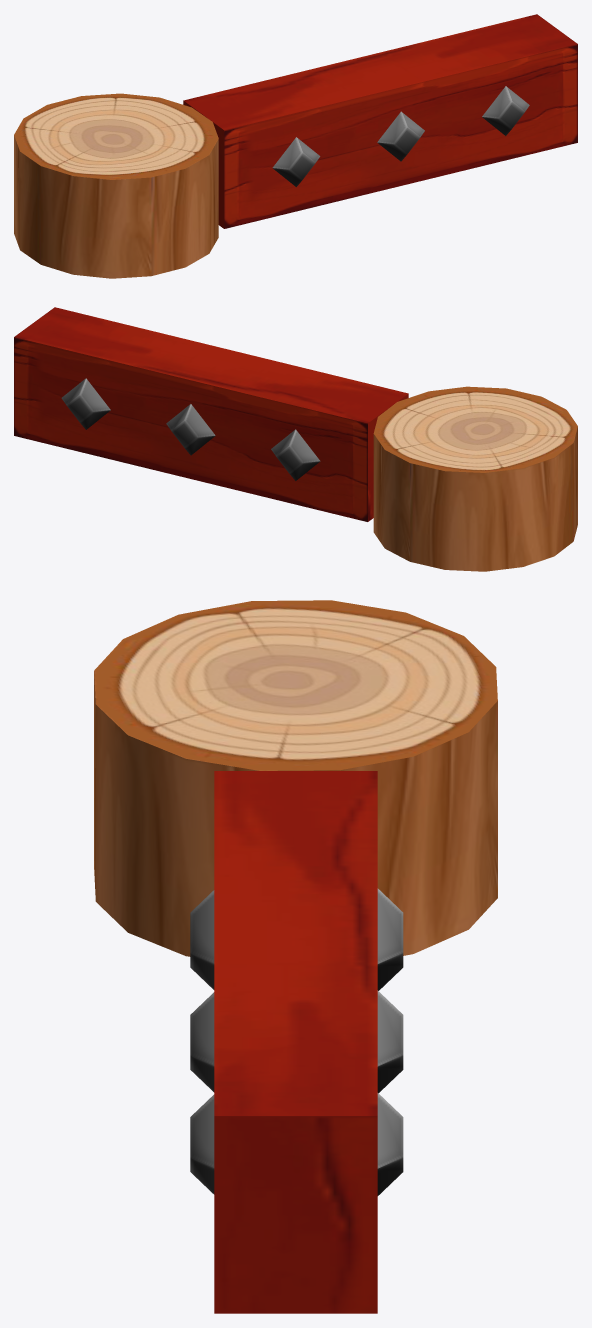
The model's file is one_blade_red_02.fbx.
3 renders of one model, top to bottom at view 1: azimuth 30°, elevation 25°; view 2: azimuth 150°, elevation 25°; view 3: azimuth 270°, elevation 25°, orthographic. The views are drawn at different scales.
Parts seen in each view (by area): view 1: Blade_44, wood_center_18; view 2: Blade_44, wood_center_18; view 3: Blade_44, wood_center_18.
Part boxes in pixels (x1,y1,x2,y2): Blade_44: [183, 14, 577, 228]; wood_center_18: [14, 93, 218, 278]; Blade_44: [14, 307, 408, 521]; wood_center_18: [373, 386, 577, 571]; Blade_44: [190, 771, 403, 1313]; wood_center_18: [94, 600, 497, 956].
Bounding box in the file's own units: 224 × 40 × 74.15.
